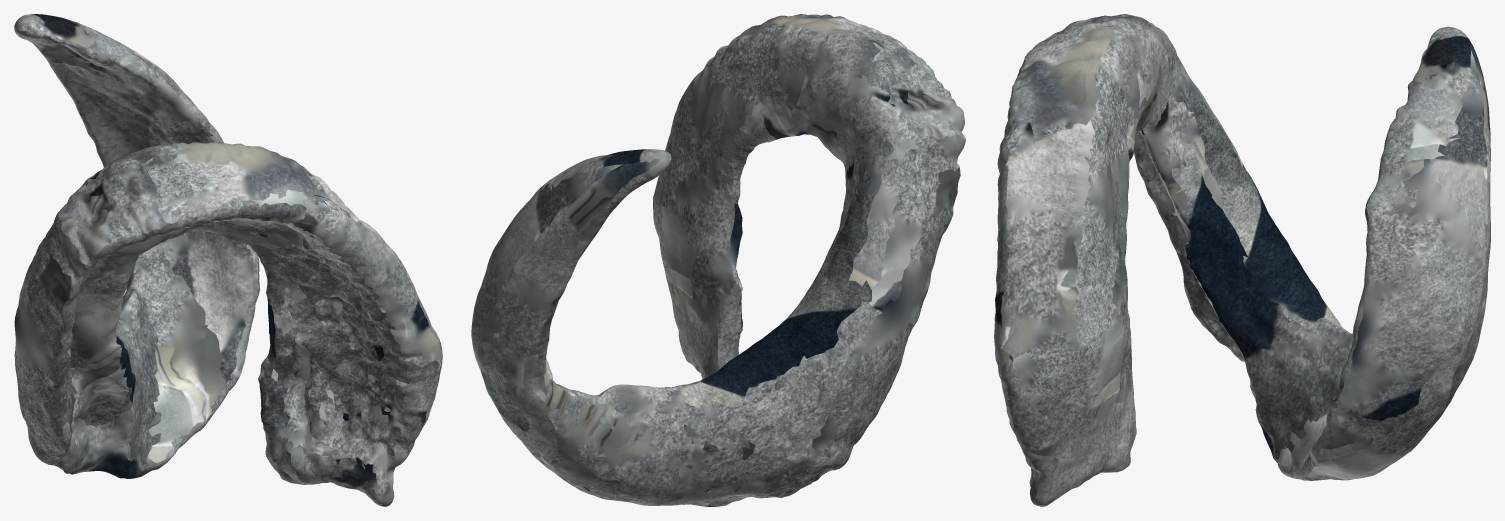
3 views of the same model, side by side, from view 1: azimuth 30°, elevation 25°; view 2: azimuth 150°, elevation 25°; view 3: azimuth 270°, elevation 25° (orthographic). The views are drawn at different scales.
Visible parts, largest first — view 1: textured_mesh; view 2: textured_mesh; view 3: textured_mesh.
Part boxes in pixels (<box>): textured_mesh: <box>14,14,442,506</box>; textured_mesh: <box>471,14,965,506</box>; textured_mesh: <box>994,14,1490,506</box>.
Bounding box in the file's own units: 1.59 × 1.87 × 1.99.
